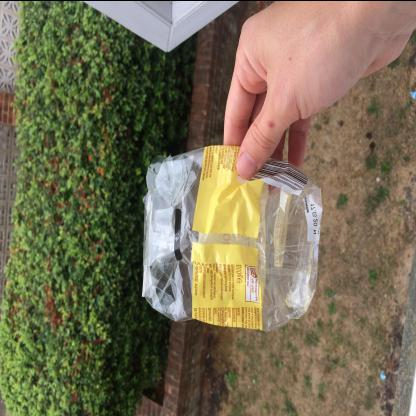plastik: (141, 140, 324, 334)
